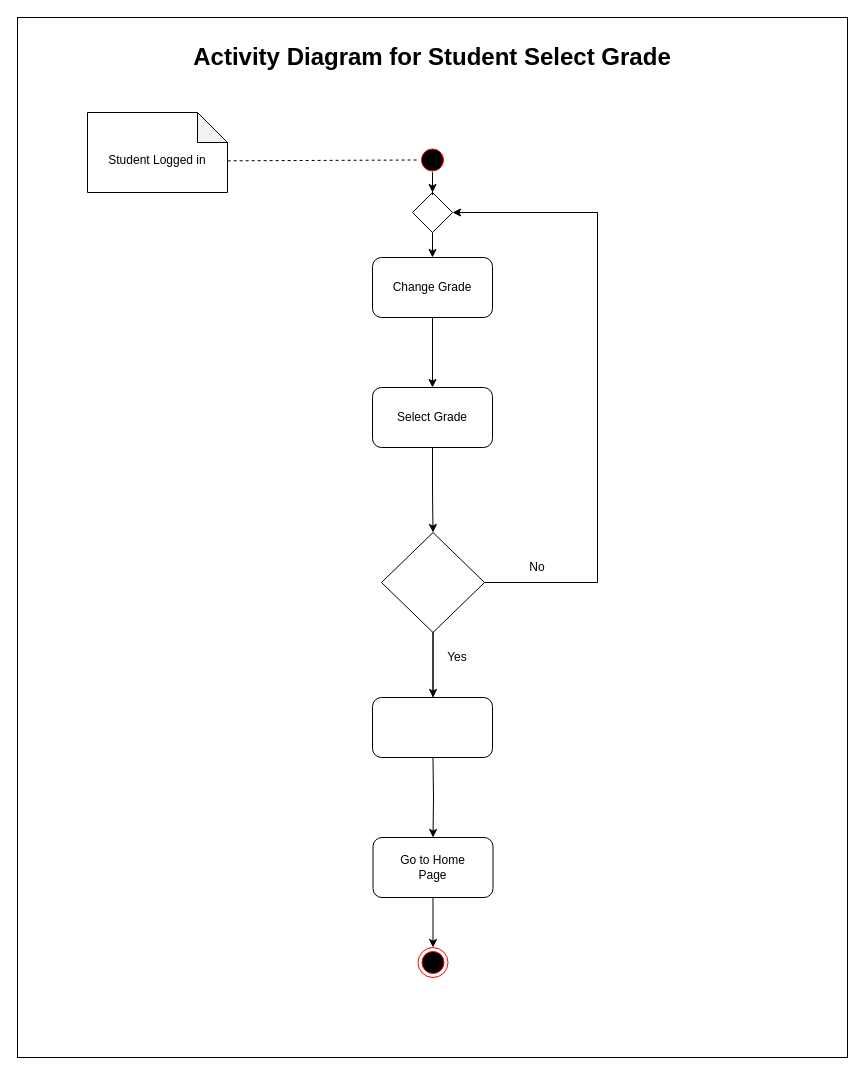
Image size: 865x1075. Some labels were removed from this diagram. The centre of each missing label's shape, as x and y in pixels:
"Change Grade to the Selected" belongs at point 432,727.
"Save Changes?" belongs at point 432,582.
